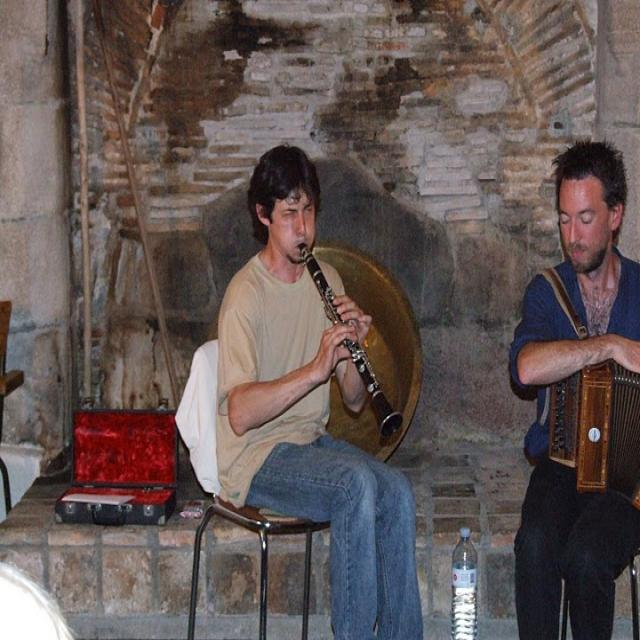clarinet: (296, 240, 406, 441)
